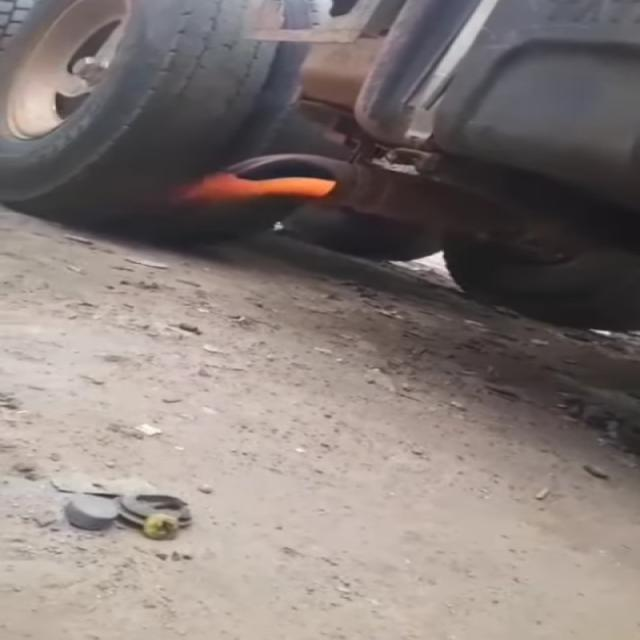fire: (194, 170, 334, 198)
